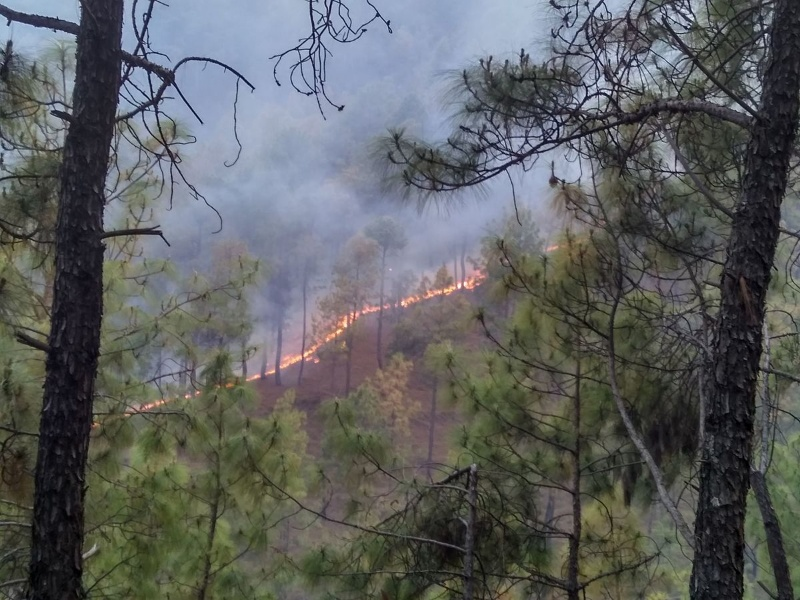smoke: (217, 4, 474, 272)
